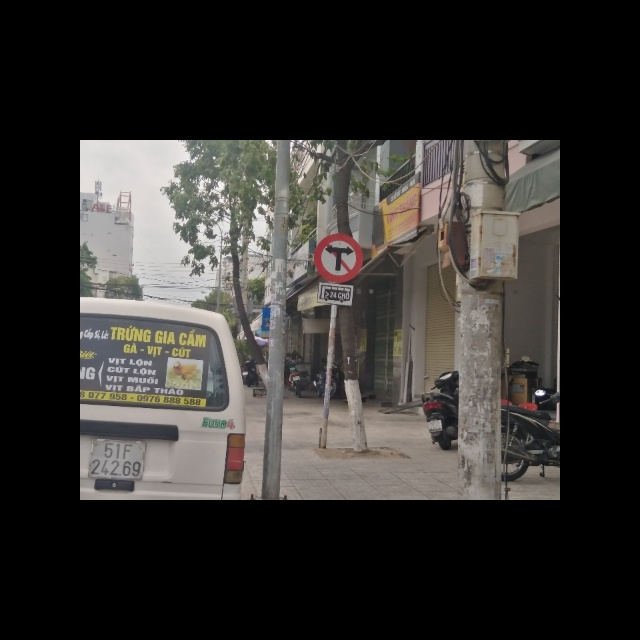Cấm rẽ trái và rẽ phải: (314, 232, 364, 282)
